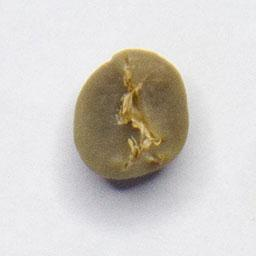premium: (71, 45, 193, 184)
